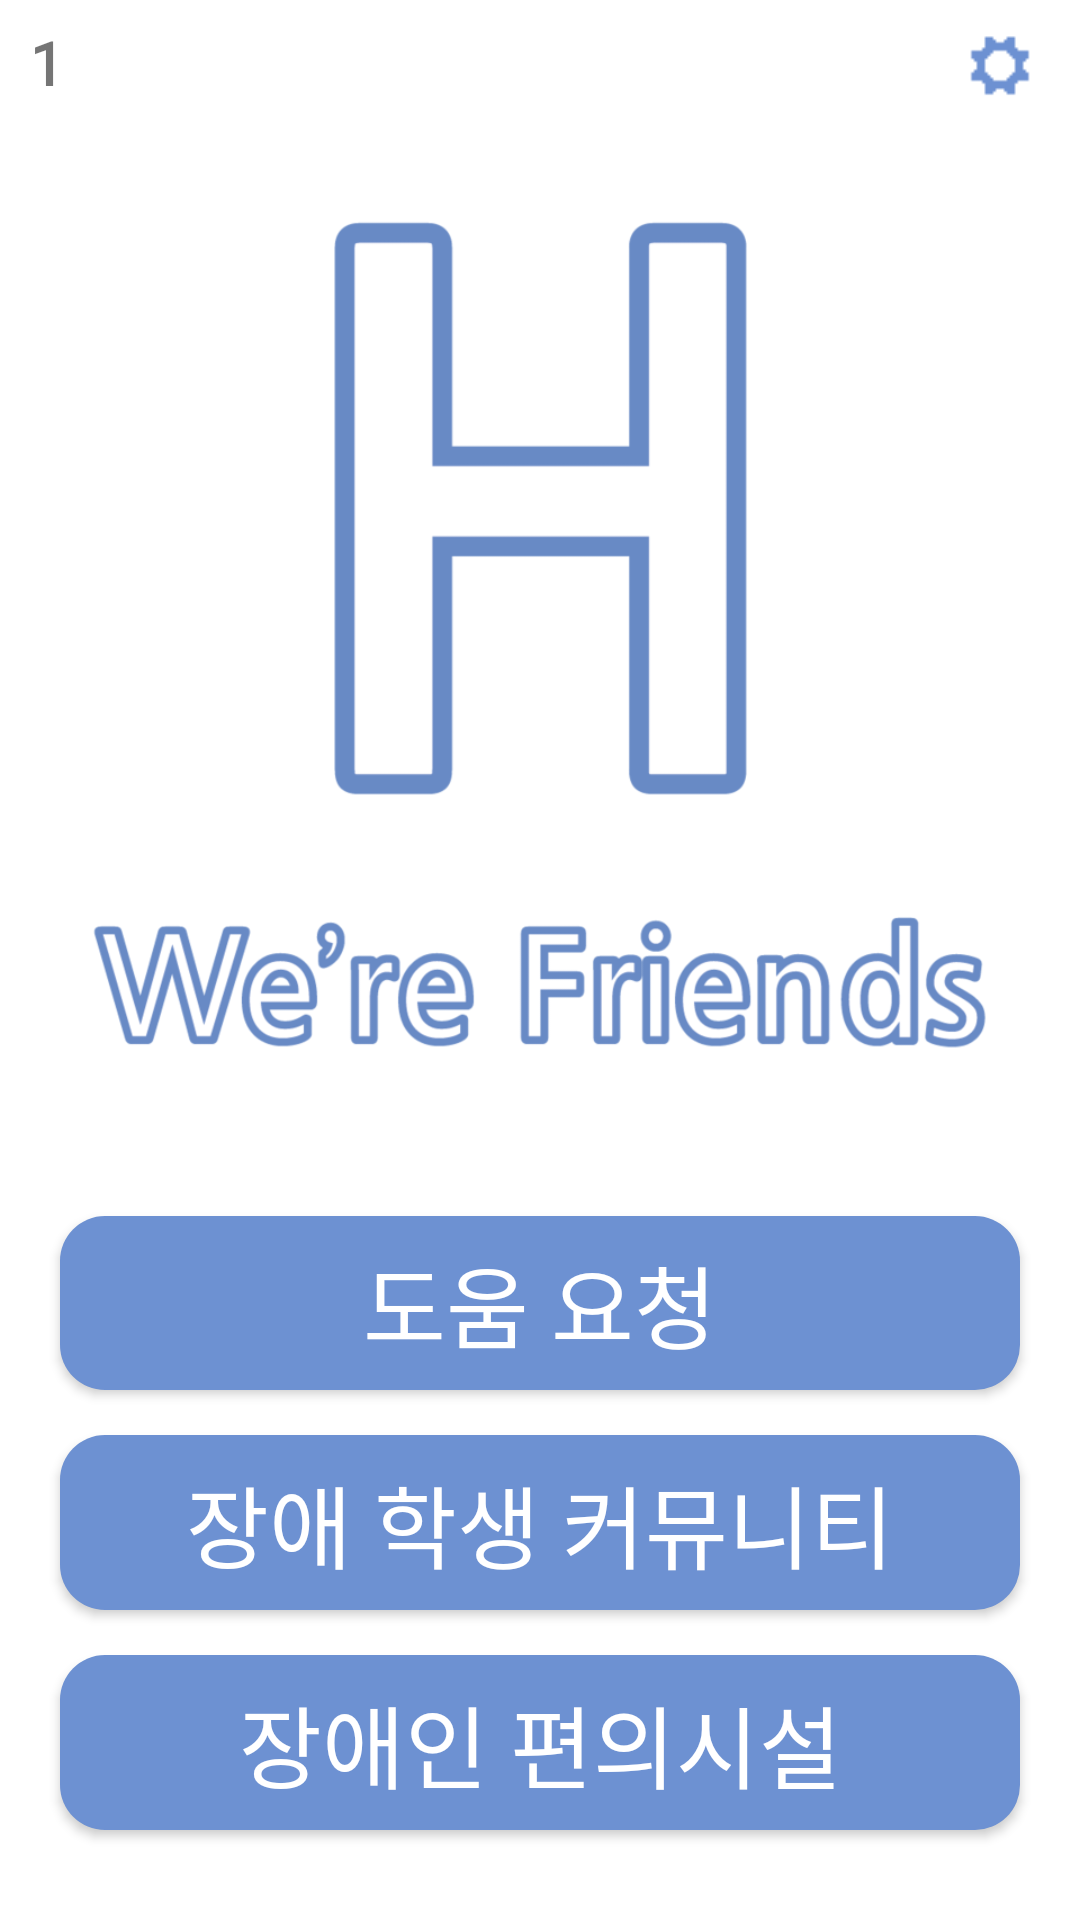

Icon bounding boxes for this 1080px x 1920px phone screenshot, format (x1, y1, x2, y2):
setting: (970, 36, 1030, 95)
